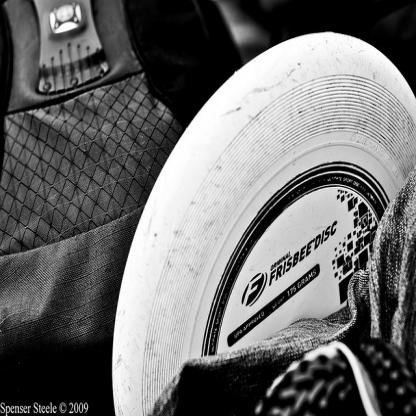backpack: (1, 3, 243, 411)
